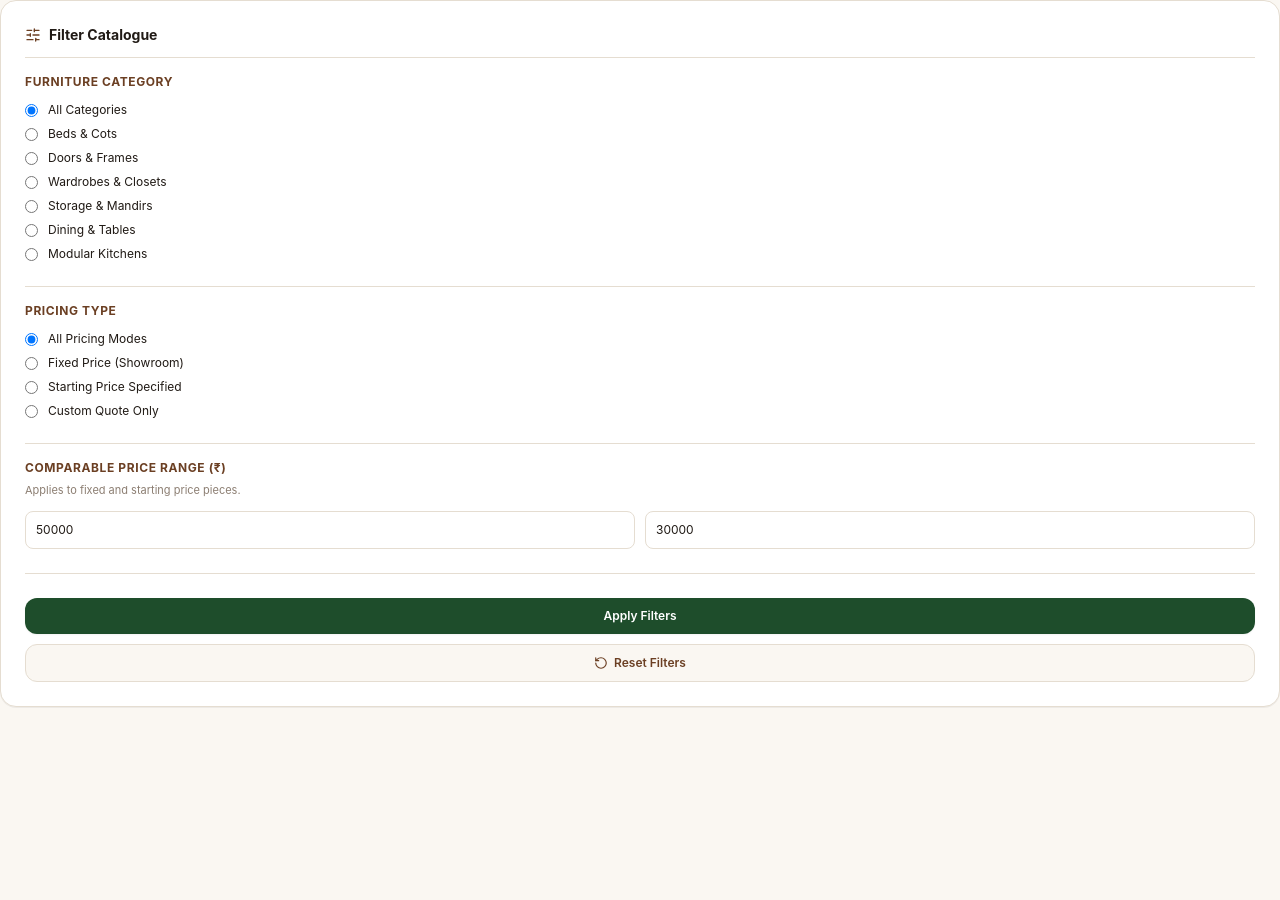
it: Screen 02: Product Catalogue Acceptance Tests › FilterDrawer displays error when minimum price exceeds maximum price
What coordinates should you click on to do the following:
click the button "Apply Filters"
I would click on:
 (640, 616)
Its box is [25,598,1255,634].
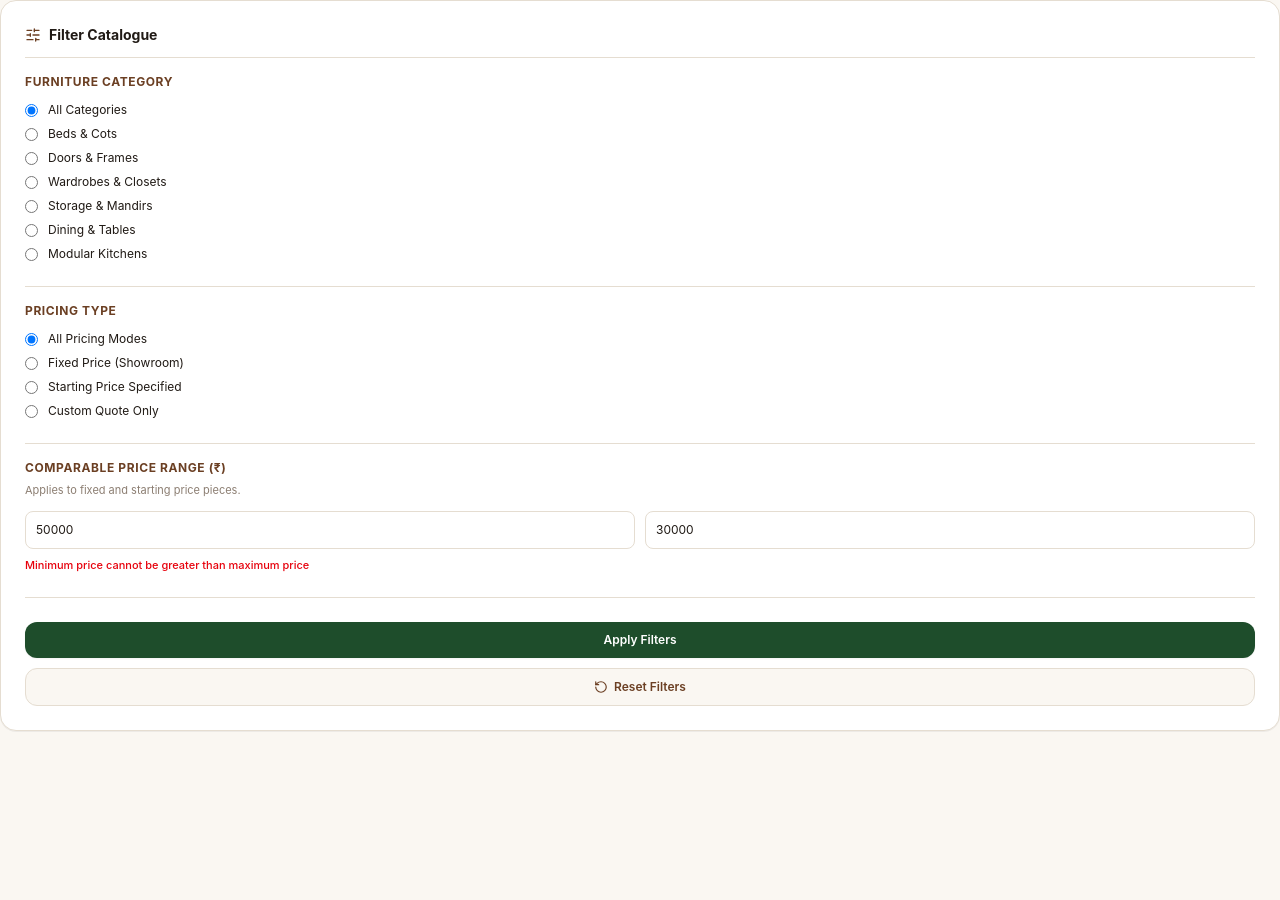
Now the text "Minimum price cannot be greater than maximum price" is shown, box [25,558,309,572]
